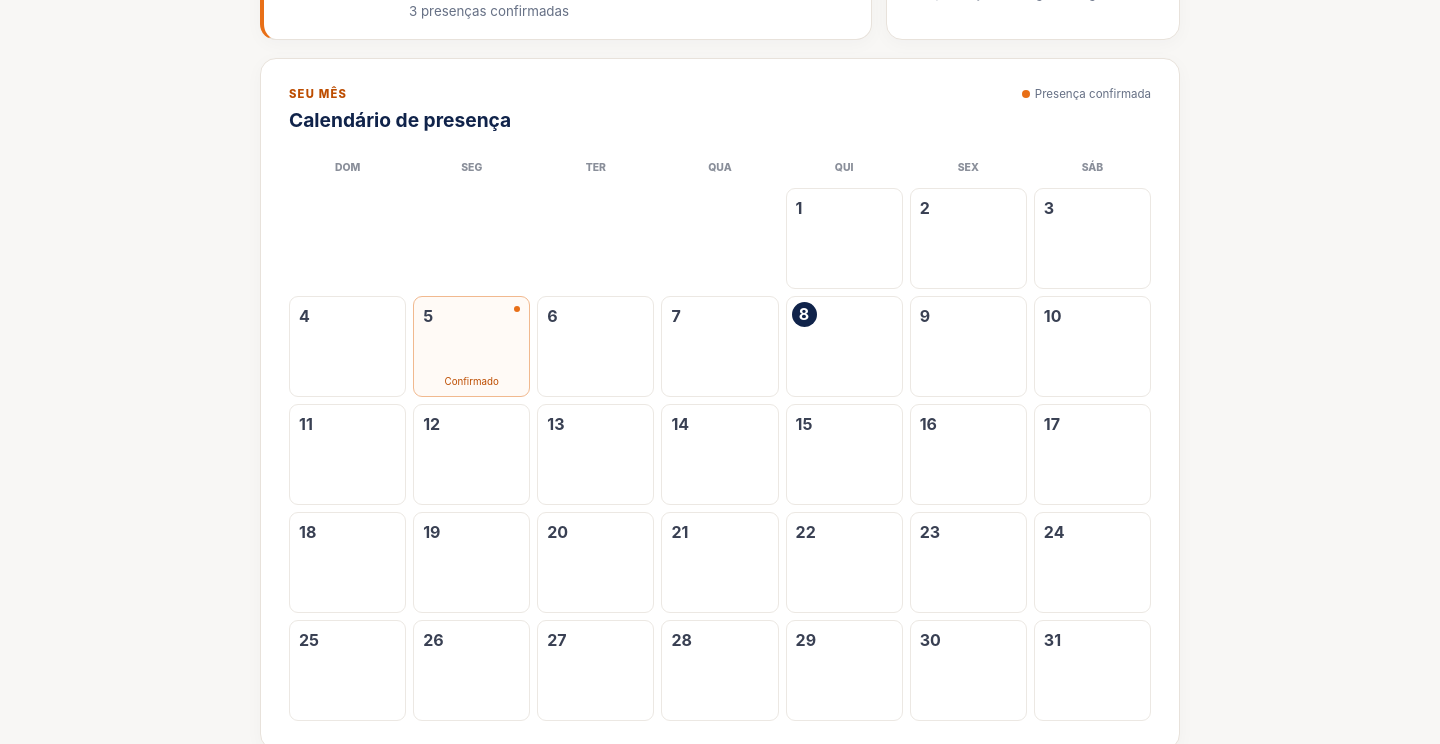
it: App de presença › abre o editor e salva uma presença pelo contrato da API
(page scrolled)
Click the cell "5 Confirmado": (472, 346) [413,296,530,397]
(page scrolled)
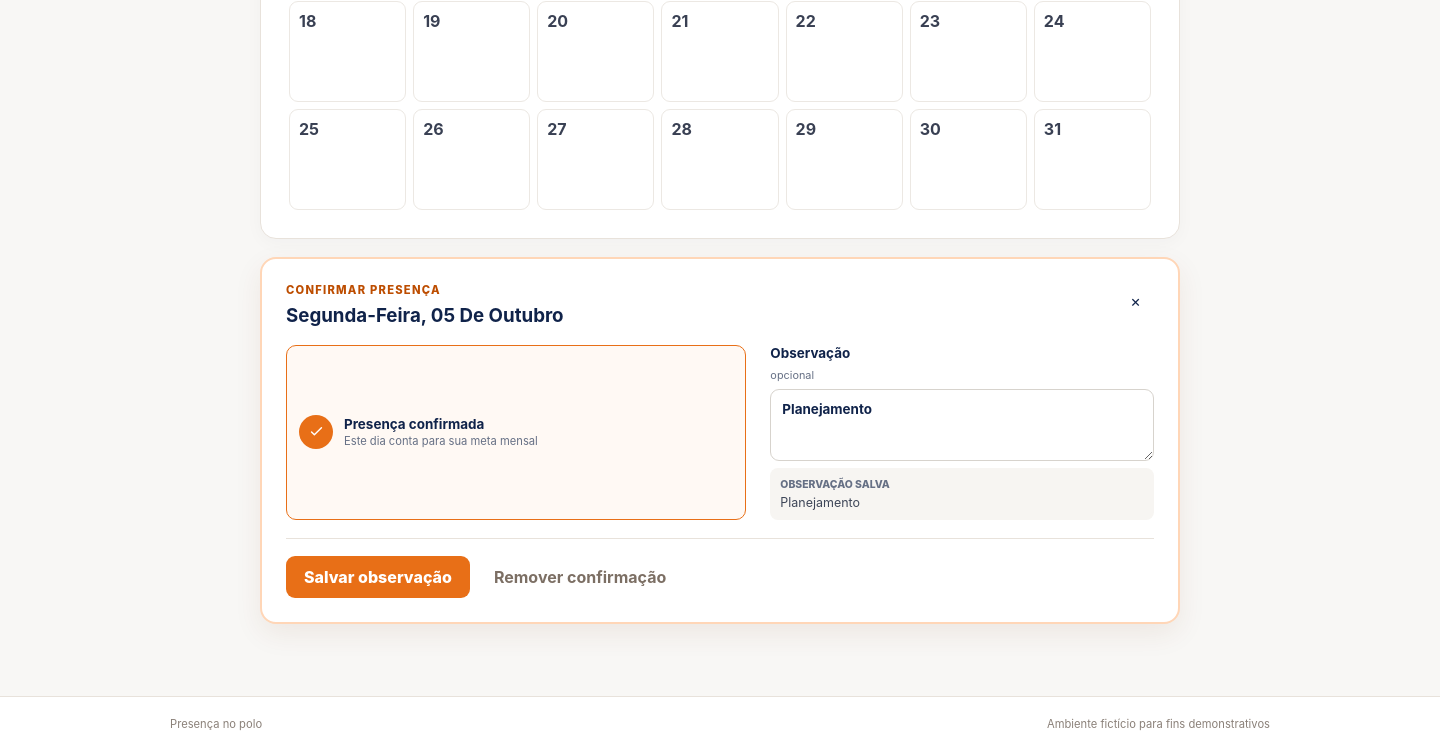
Replace the text in the text box with placeholder "Ex.: reunião com o time" with "Encontro presencial": (962, 425) [770,389,1154,461]
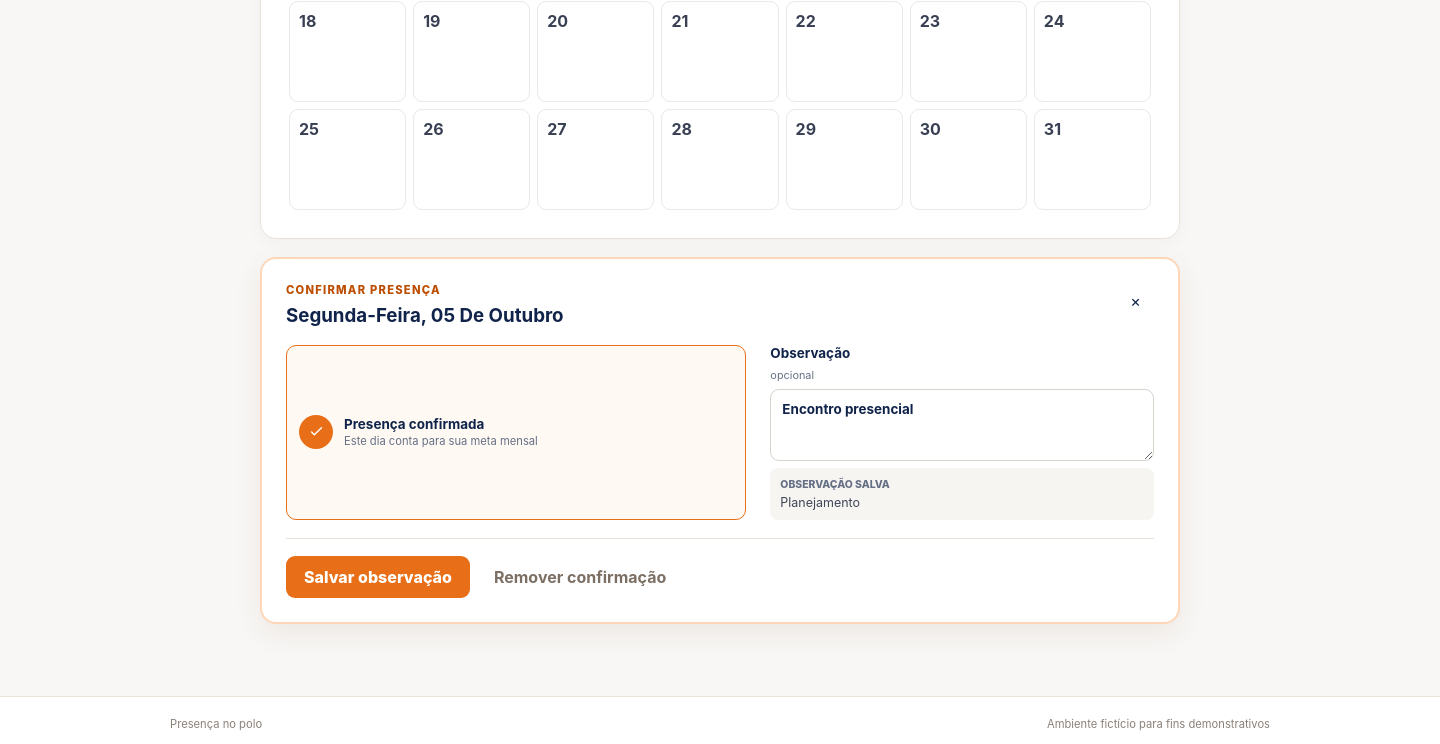
Click the button "Salvar observação": (378, 577) [286,556,470,598]
(page scrolled)
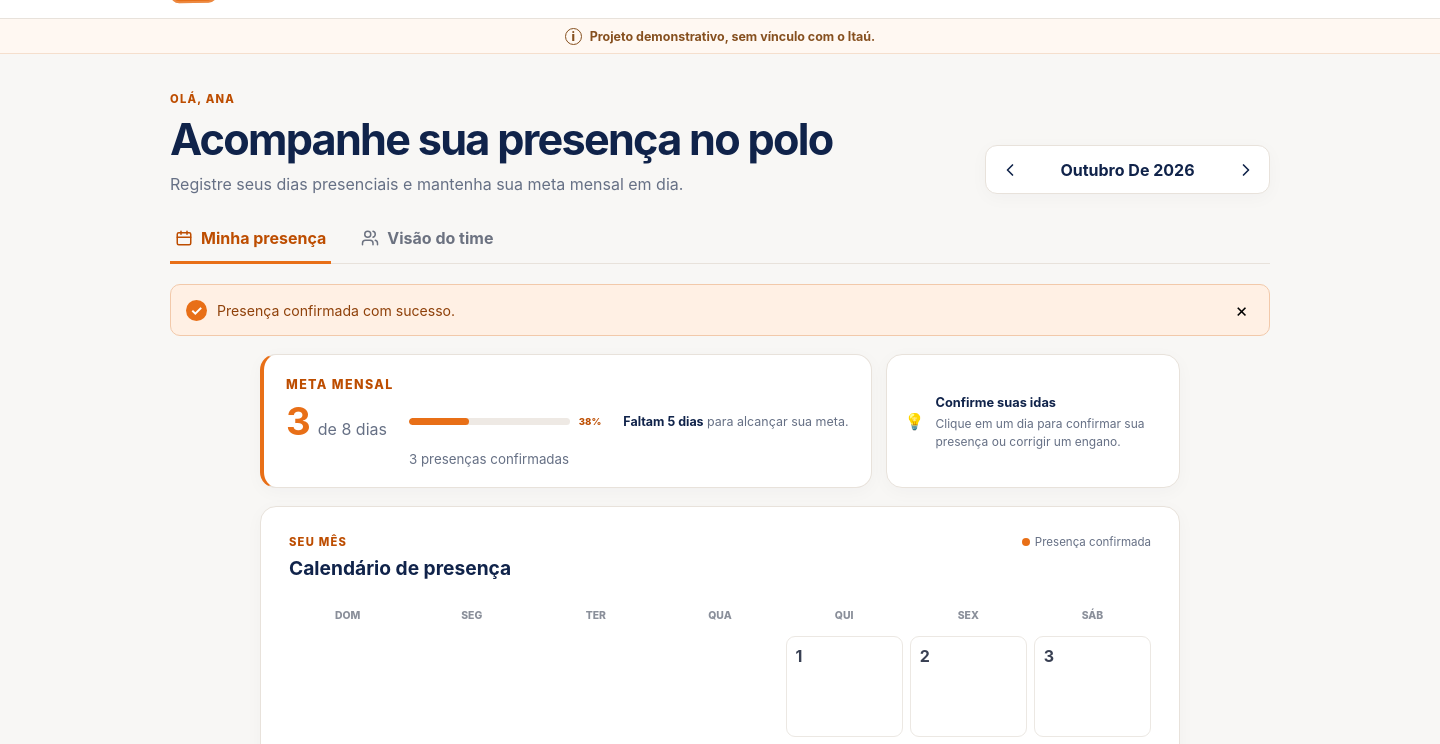
Check: the message shows "Presença confirmada com sucesso", box [217,302,455,318]
